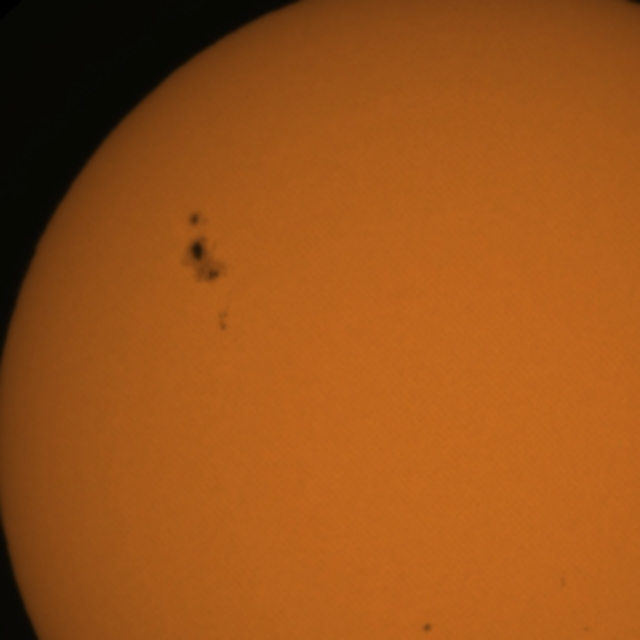sunspot: (179, 234, 225, 289), (185, 208, 208, 232), (215, 306, 231, 334), (420, 621, 434, 635), (558, 574, 568, 590), (581, 624, 592, 635)
